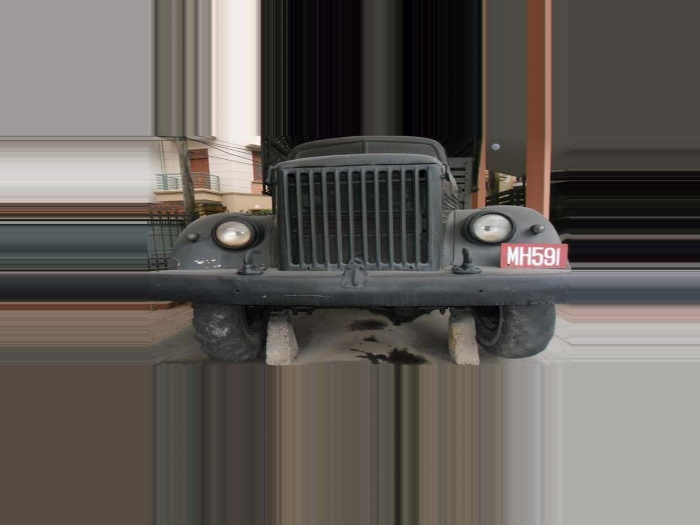plate: (499, 239, 574, 272)
